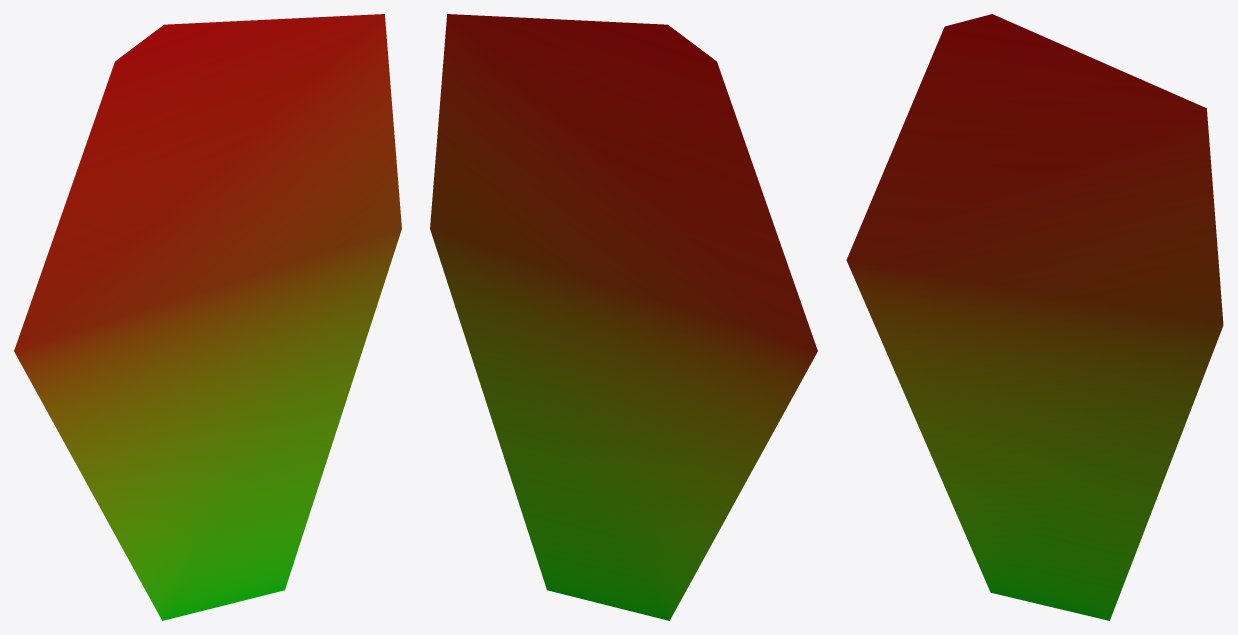
Rendered from ueyoebmia_Var5_LOD3.fbx.
3 views of the same model, side by side, from view 1: azimuth 30°, elevation 25°; view 2: azimuth 150°, elevation 25°; view 3: azimuth 330°, elevation 25° (orthographic). The views are drawn at different scales.
Parts seen in each view (by area): view 1: _3661_Var5_LOD3; view 2: _3661_Var5_LOD3; view 3: _3661_Var5_LOD3.
Part boxes in pixels (box(x1,y1,x2,y2)): _3661_Var5_LOD3: box(14, 14, 401, 620); _3661_Var5_LOD3: box(430, 14, 817, 620); _3661_Var5_LOD3: box(846, 14, 1223, 620).
Bounding box in the file's own units: 28.22 × 41.42 × 1.64e-06.
